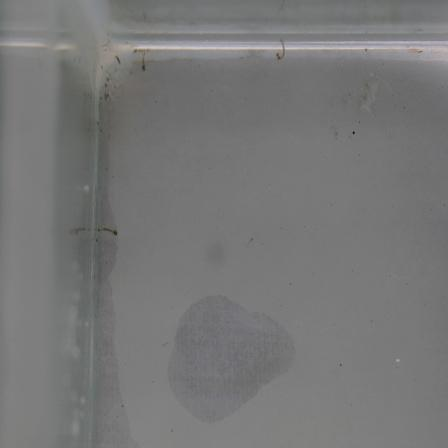Jentik-Nyamuk: (273, 35, 288, 68), (94, 222, 122, 239), (135, 48, 152, 75)
